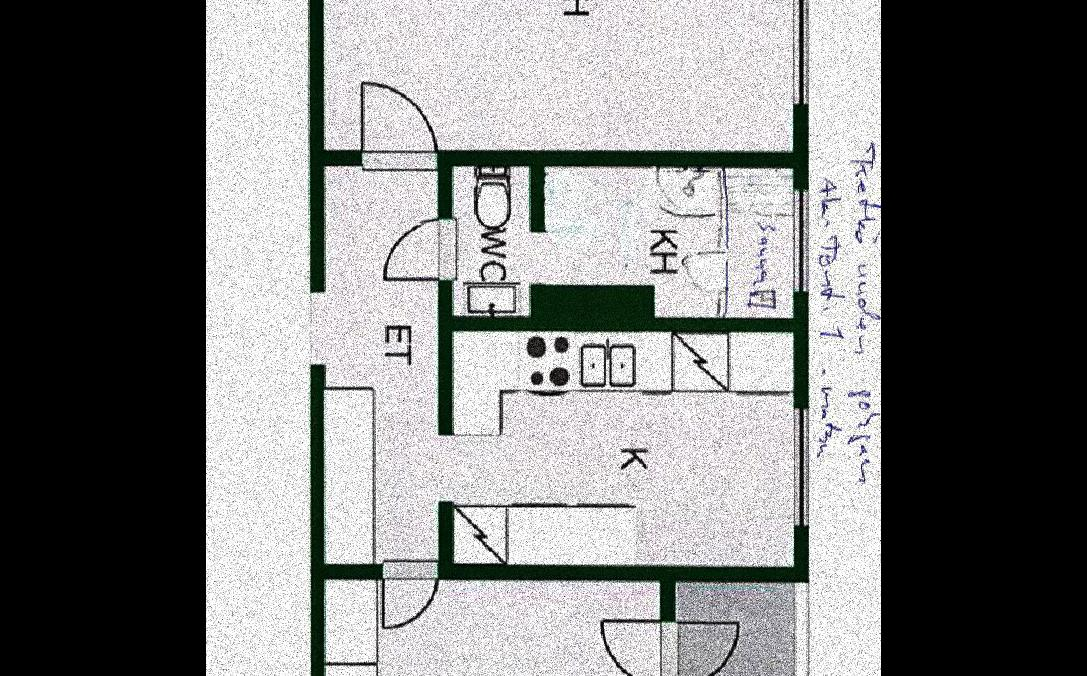door: (587, 616, 741, 676), (352, 72, 436, 180), (376, 214, 457, 288), (370, 552, 438, 634), (678, 246, 736, 290)
window: (788, 408, 812, 530), (782, 0, 809, 106), (790, 186, 812, 294)
zone: (452, 331, 795, 562), (325, 0, 793, 148), (452, 168, 795, 316), (324, 156, 442, 565), (326, 576, 663, 676), (676, 586, 795, 676)
